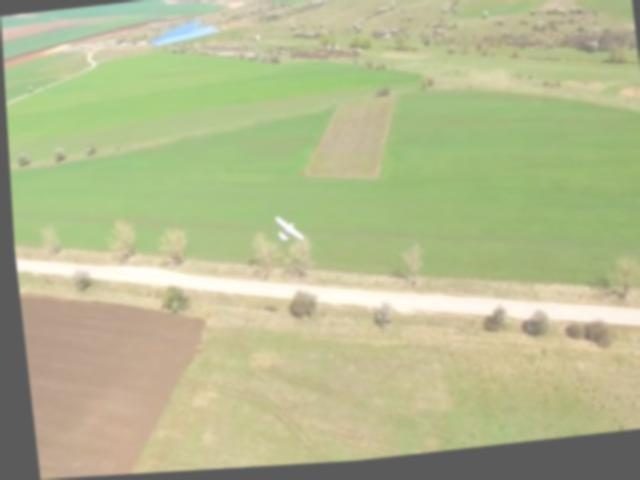uav: (267, 210, 306, 251)
